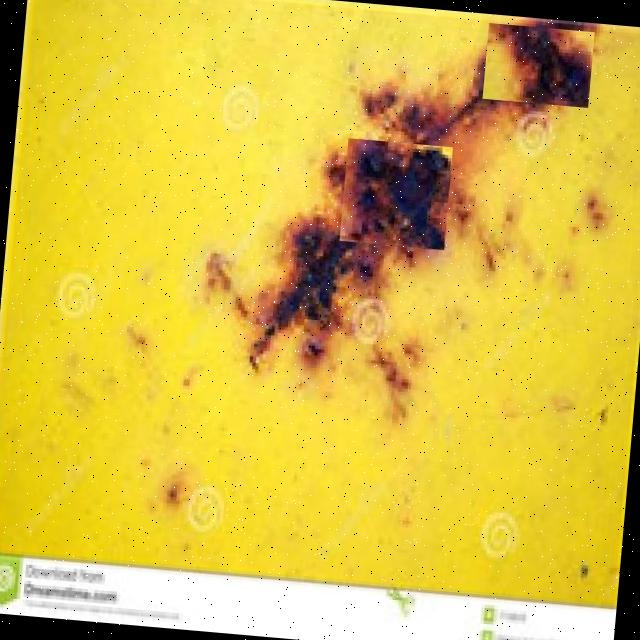Corrosion: (190, 0, 615, 435)
